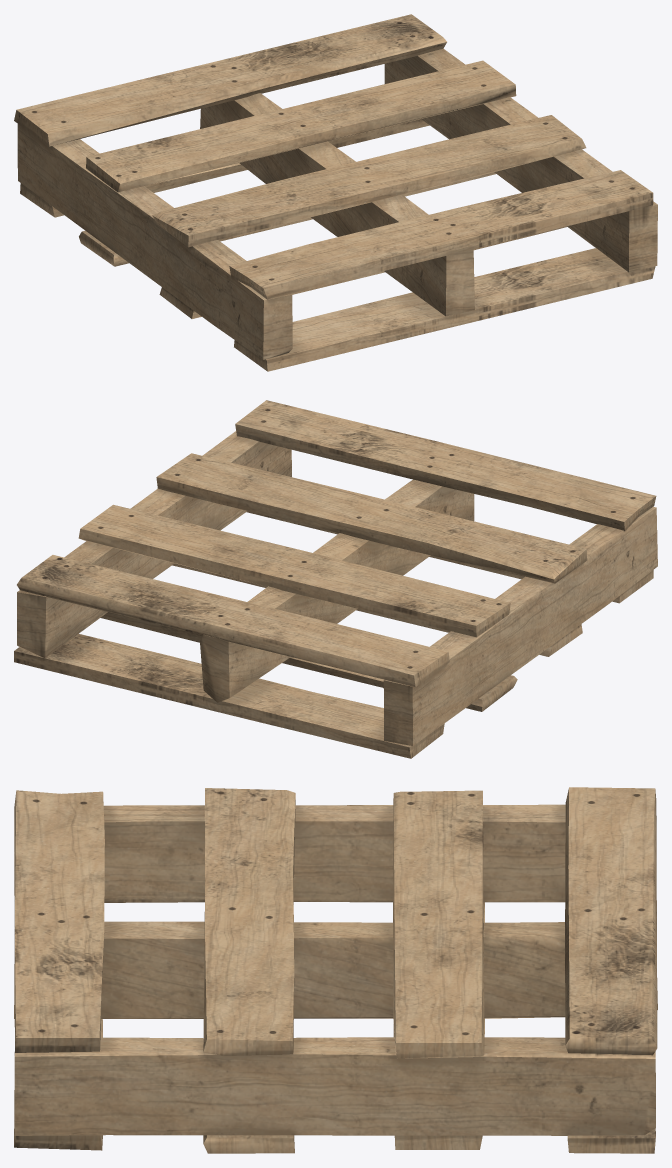
File: palette.glb
3 renders of one model, top to bottom at view 1: azimuth 30°, elevation 25°; view 2: azimuth 150°, elevation 25°; view 3: azimuth 270°, elevation 25°, orthographic. The views are drawn at different scales.
Parts seen in each view (by area): view 1: Object_2; view 2: Object_2; view 3: Object_2.
Part boxes in pixels (bbox=[...]): Object_2: bbox=[14, 14, 657, 371]; Object_2: bbox=[14, 400, 657, 758]; Object_2: bbox=[14, 787, 657, 1153].
Size of the model in its own units: 66.37 by 13.37 by 70.01.
1 material, 1 textured.
